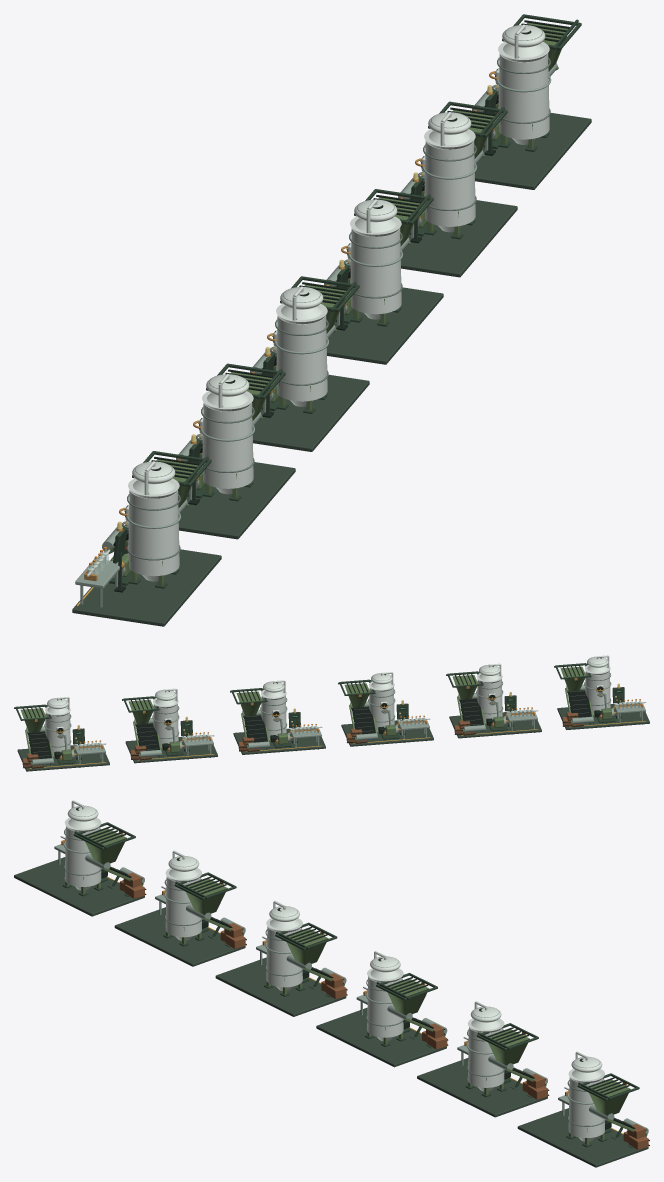
File: audit-hf-processing-line-run-front.glb
3 renders of one model, top to bottom at view 1: azimuth 30°, elevation 25°; view 2: azimuth 150°, elevation 25°; view 3: azimuth 270°, elevation 25°, orthographic. The views are drawn at different scales.
Parts seen in each view (by area): view 1: processingFoundation (×6), tankBody (×6); view 2: processingFoundation (×6), tankBody (×6), conveyorBelt (×6), hopperBody (×6), bottlingTable (×6), tankLid (×6); view 3: processingFoundation (×6), tankBody (×6), hopperBody (×6).
Boxes of the visible parts, box(x1,y1,x2,y2) form: processingFoundation (×6): box(72, 113, 591, 626); tankBody (×6): box(128, 53, 549, 576); processingFoundation (×6): box(17, 702, 649, 771); tankBody (×6): box(45, 670, 610, 754); conveyorBelt (×6): box(28, 690, 591, 758); hopperBody (×6): box(20, 666, 585, 732); bottlingTable (×6): box(75, 704, 645, 754); tankLid (×6): box(47, 656, 608, 709); processingFoundation (×6): box(14, 857, 648, 1167); tankBody (×6): box(64, 826, 604, 1137); hopperBody (×6): box(85, 828, 630, 1115).
Bounding box in the file's own units: 39.8 × 5.27 × 34.62.
